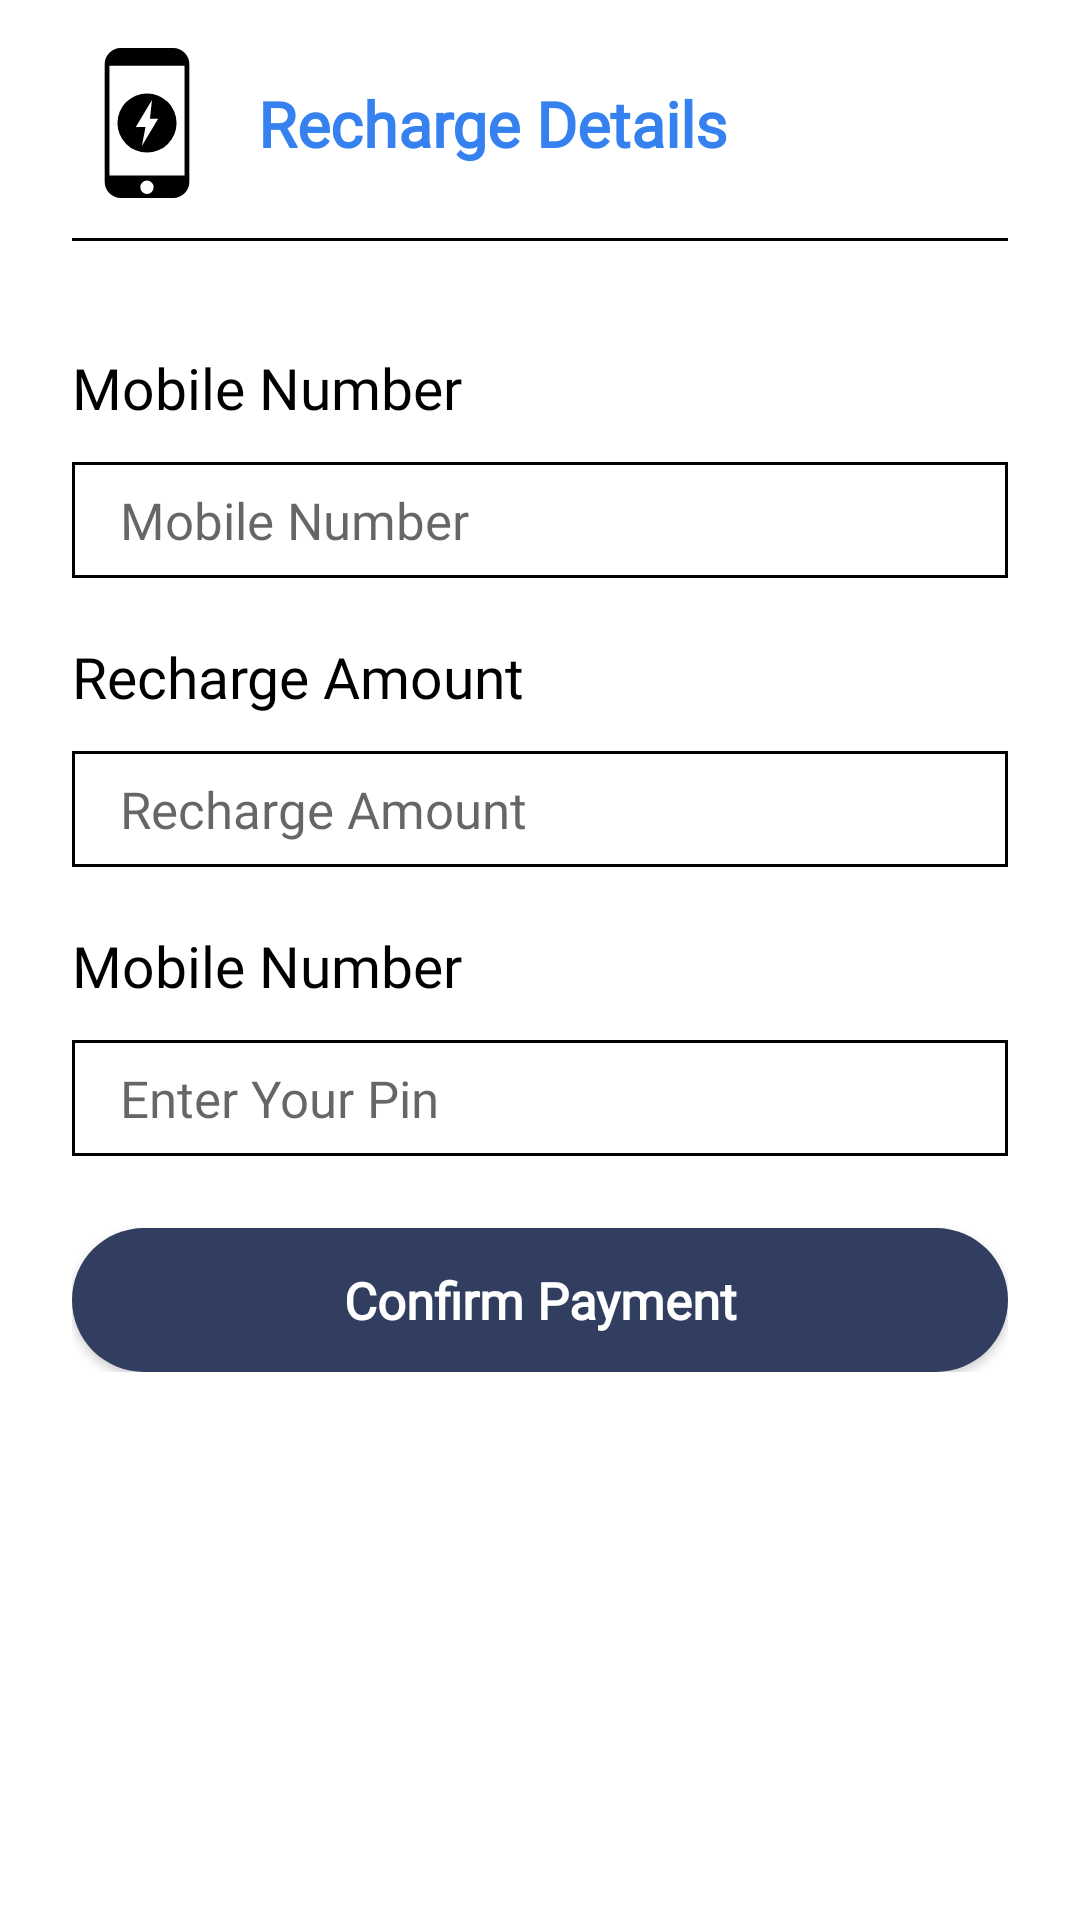

Locate icon controls on the screen. Image size 1080px x 1920px, boxes as (x1, y1, x2, y2).
Mobile Operator: (104, 48, 190, 198)
